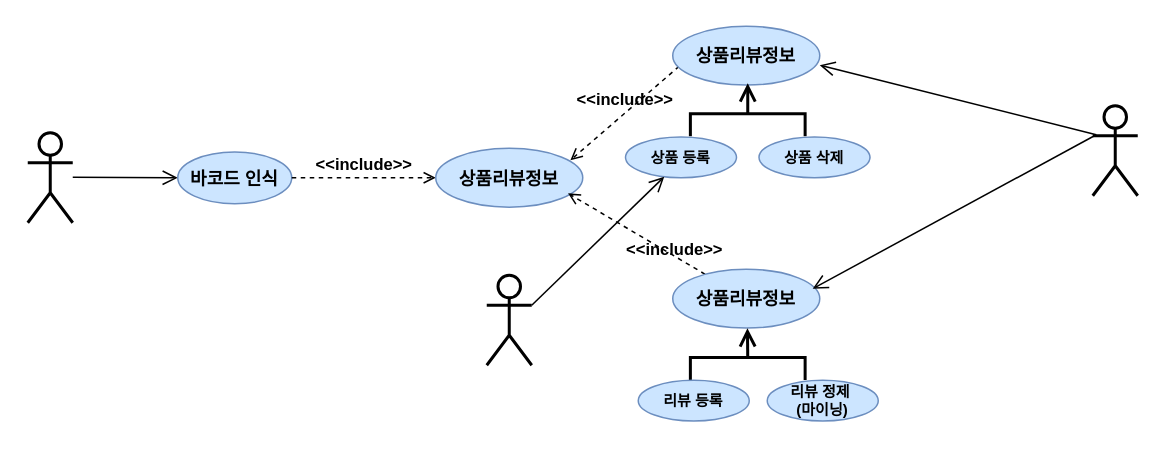
The diagram is 1166 pixels wide and 449 high, and some of its shapes have lost their labels. The shapes that lost their labels are listed below. From the top down, each one's box as (x1, y1, x2, y2) in pixels, then its label:
(1090, 104, 1138, 196): admin
(26, 130, 74, 224): user
(484, 273, 532, 366): 상품 등록 회사
